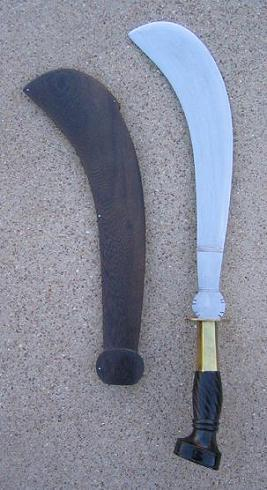facao: (129, 22, 232, 469)
